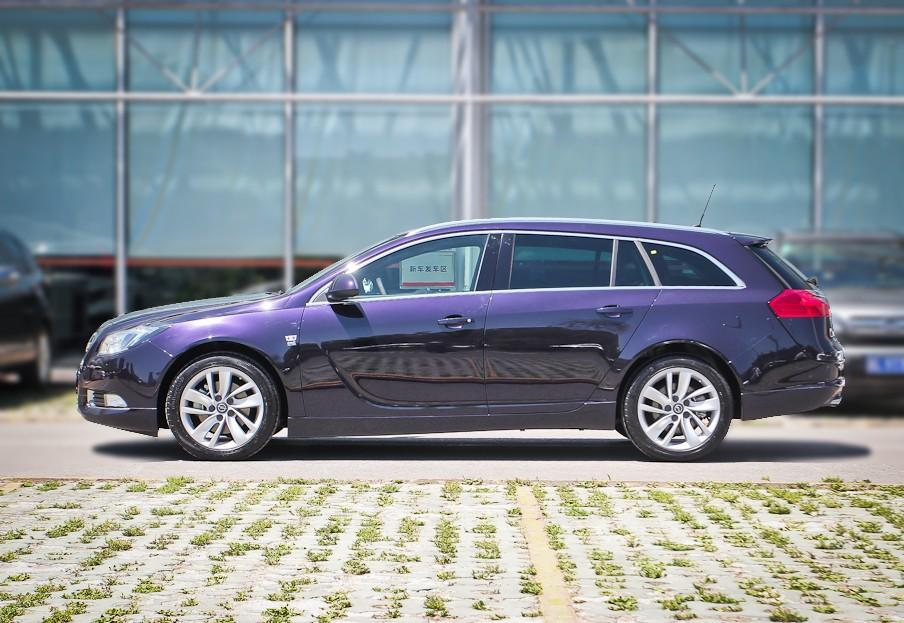Wagon: (77, 217, 846, 461)
